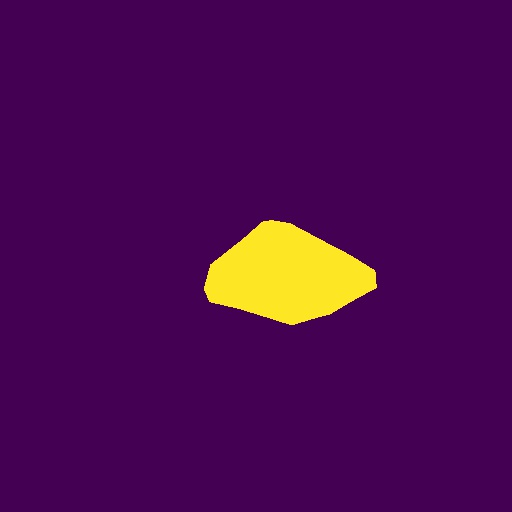Gliomia_tumour: (204, 220, 377, 325)
